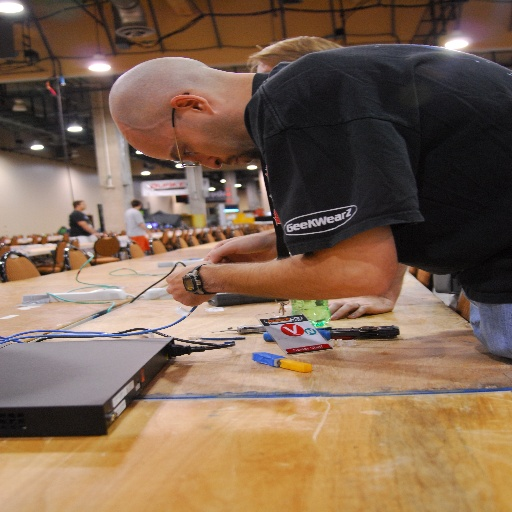hand: (198, 232, 281, 266), (160, 260, 212, 307), (328, 297, 395, 320)
